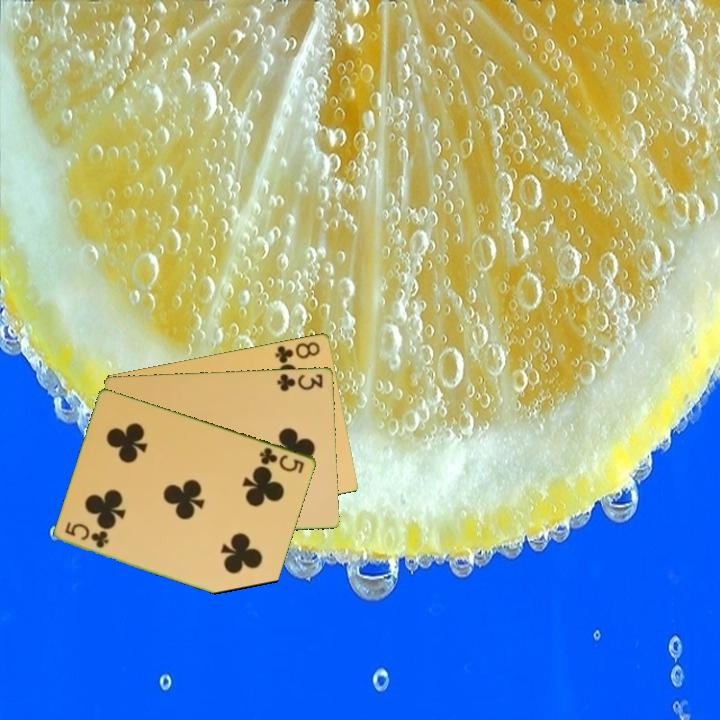3c: (274, 370, 326, 394)
5c: (256, 443, 308, 476), (62, 518, 112, 551)
8c: (272, 338, 323, 366)
